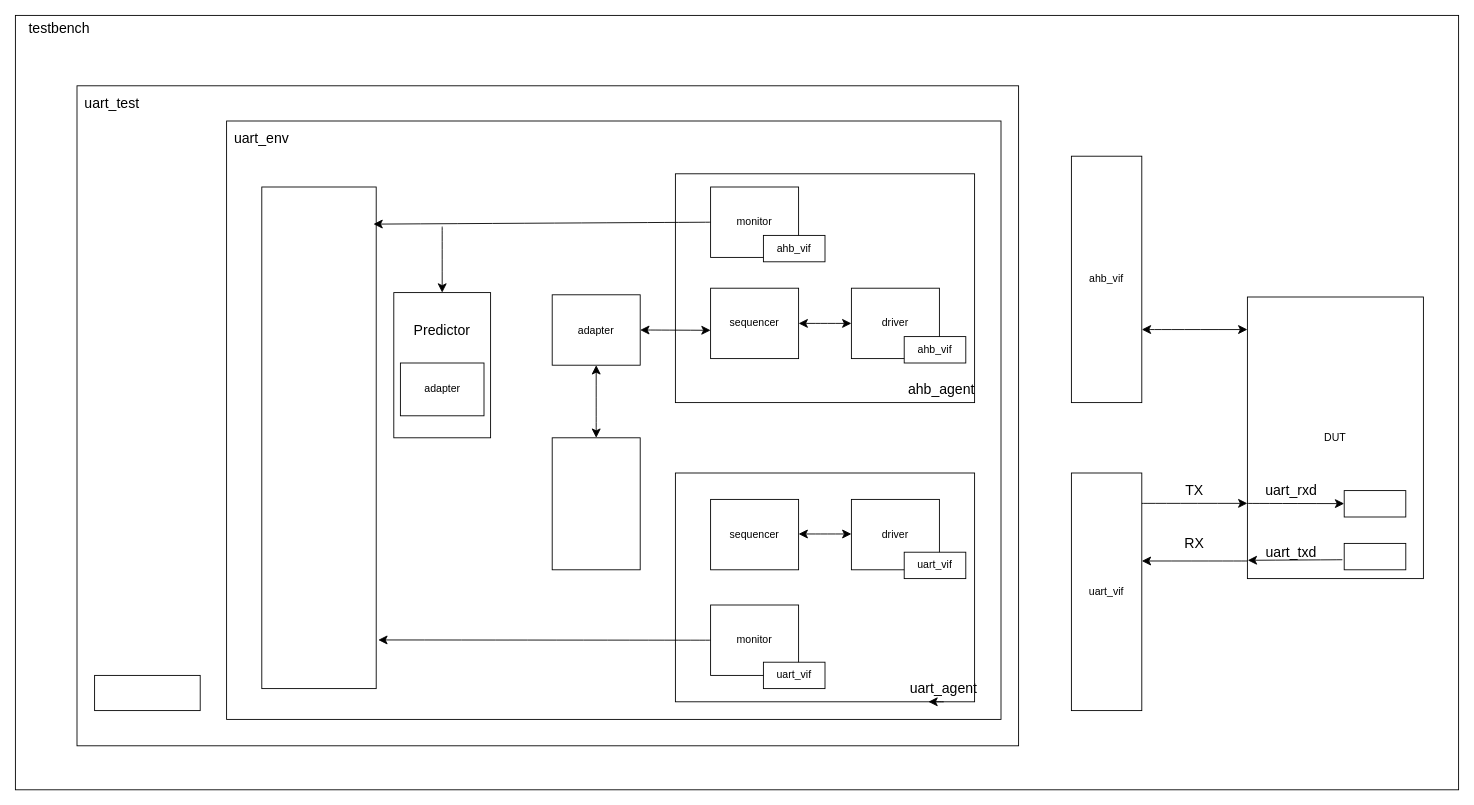
This 1474x805 diagram has some shape labels left out. Each missing label, with the centre of its shape:
Receiver: the point at 1374,503
Scoreboard: the point at 318,437
Transmitter: the point at 1374,556
uart_config: the point at 147,693
uart_reg_block: the point at 595,503
